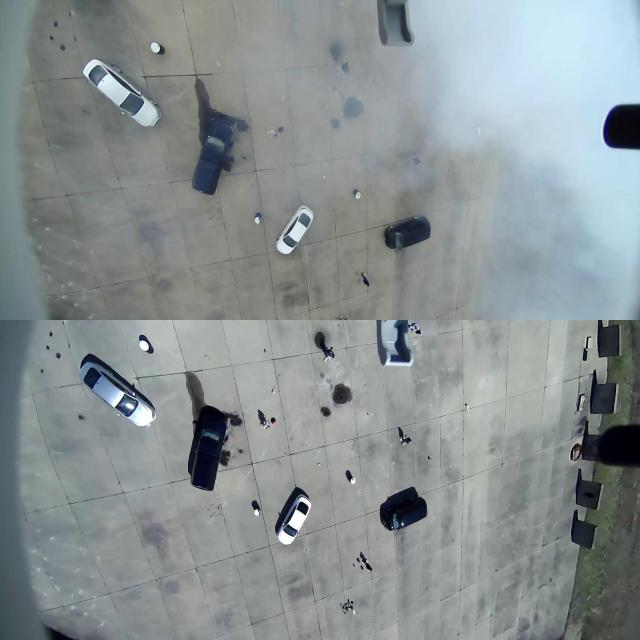car: (77, 353, 158, 426), (81, 58, 162, 126), (188, 109, 242, 200), (184, 397, 228, 498), (274, 490, 311, 546), (274, 205, 313, 254), (383, 214, 430, 251), (381, 495, 428, 531)
